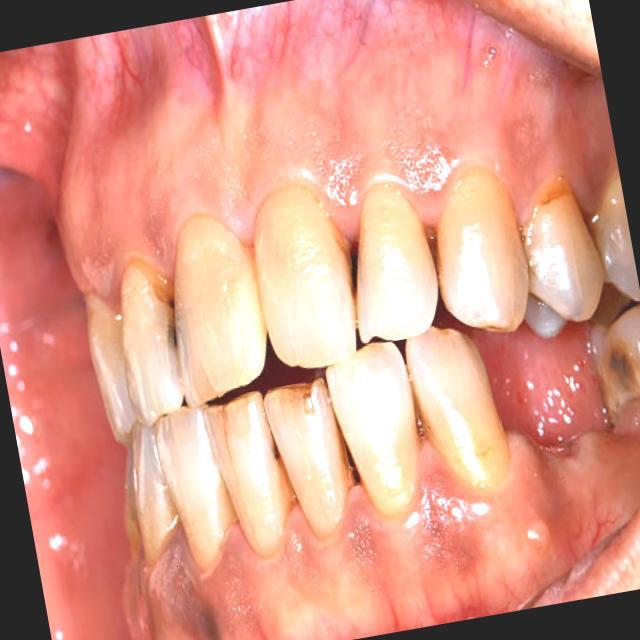redness: (408, 504, 494, 586), (78, 239, 148, 317)
swelling: (504, 428, 560, 503)
